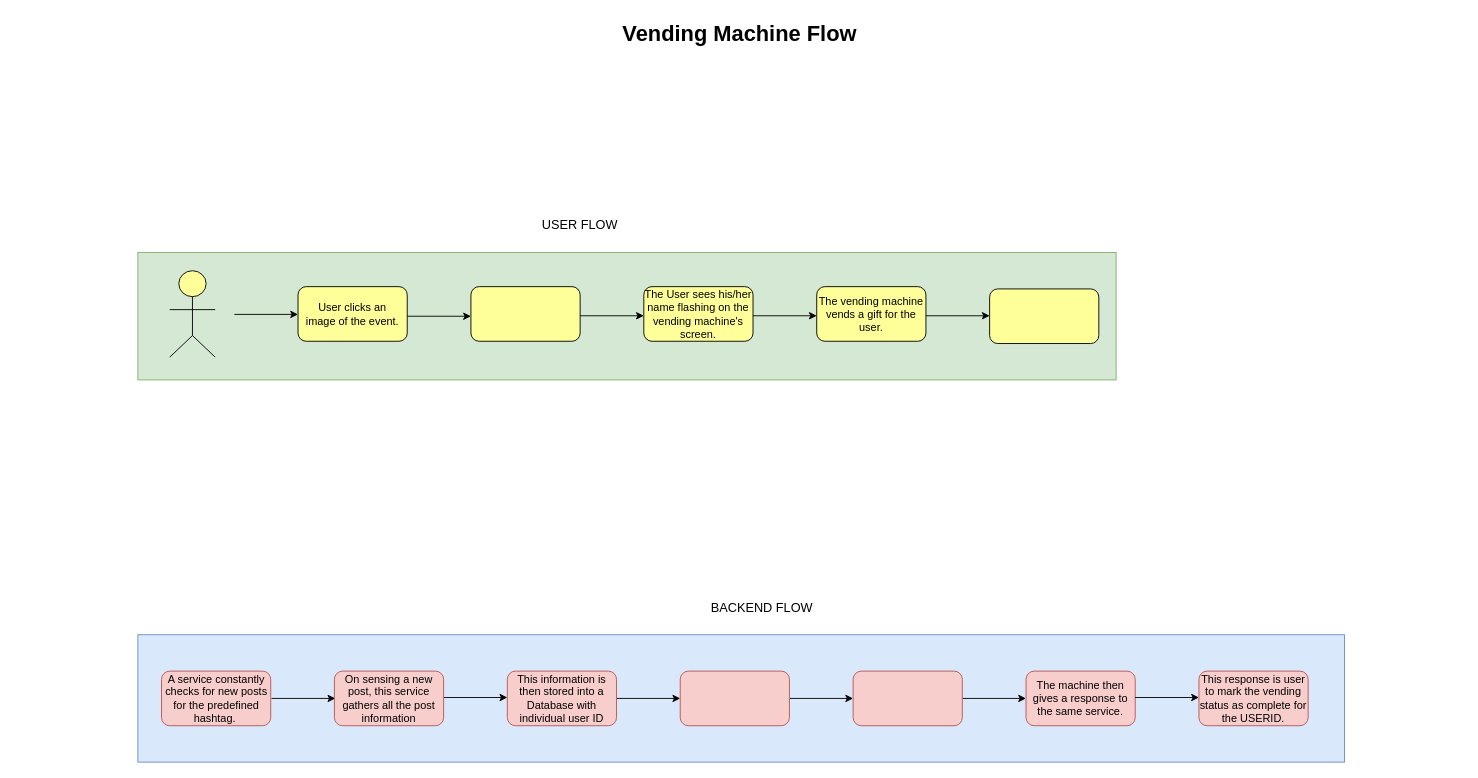
Some shapes in this 1478 by 778 pixel diagram are drawn without their labels. Each missing label, with the box of its shape:
As soon as a new entry is sensed by another service, it triggers the machine.: (679, 670, 789, 726)
The machine vends the gift and the user presses the "thank-you" button.: (852, 670, 962, 726)
The User collects his/her gift from the machine and presses "thank-you" button.: (989, 288, 1099, 344)
User post the image on Instagram with a predefined hashtag.: (470, 286, 580, 341)
